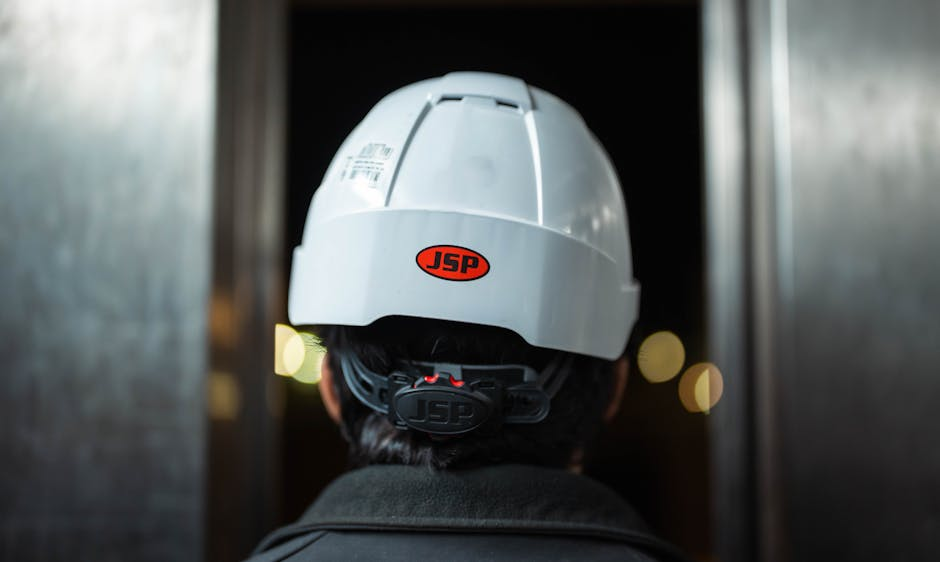safety_helmet: (281, 68, 642, 366)
